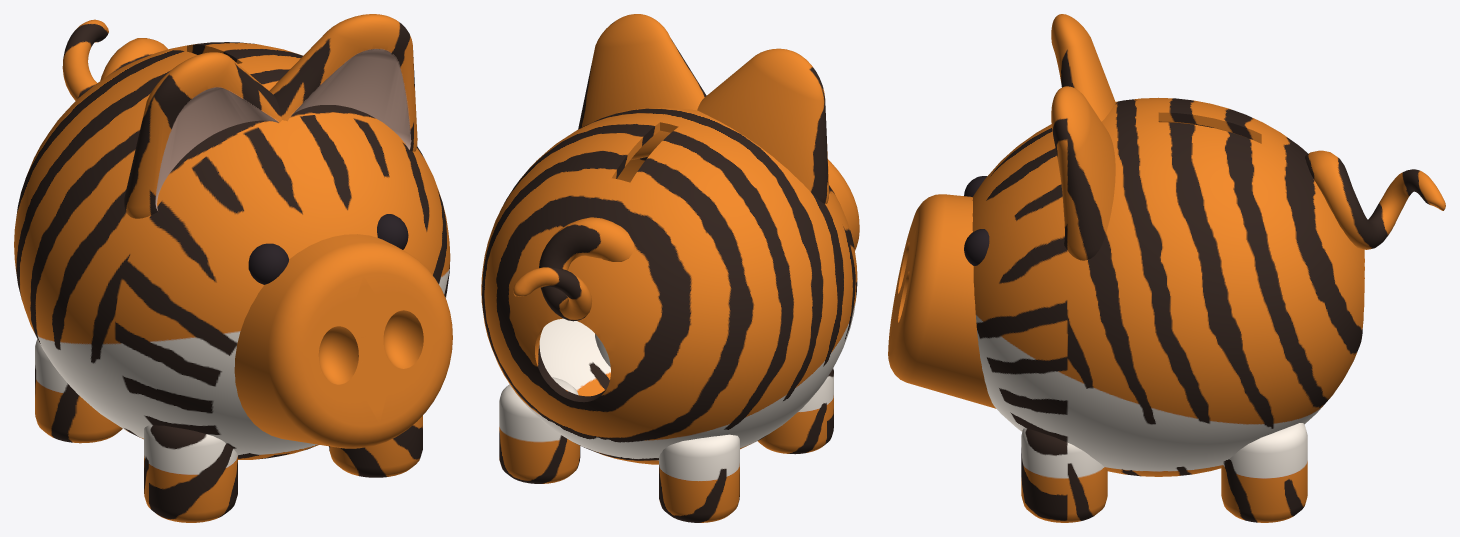
The model's file is tiger-complete.fbx.
The picture shows the model from 3 angles, left to right: view 1: azimuth 30°, elevation 25°; view 2: azimuth 150°, elevation 25°; view 3: azimuth 270°, elevation 25°; orthographic projection. The views are drawn at different scales.
Visible parts, largest first — view 1: Body, Snout, Ears, Legs, Tail, Eyes; view 2: Body, Ears, Legs, Tail, Snout; view 3: Body, Snout, Legs, Ears, Tail, Eyes.
Part boxes in pixels (x1,y1,x2,y2): Body: (14, 42, 450, 459); Snout: (234, 234, 452, 448); Ears: (124, 14, 417, 218); Legs: (35, 339, 422, 522); Tail: (62, 19, 167, 100); Eyes: (248, 214, 408, 284); Body: (481, 107, 857, 464); Ears: (578, 14, 829, 203); Legs: (499, 334, 833, 522); Tail: (513, 217, 634, 321); Snout: (828, 159, 859, 250); Body: (972, 97, 1364, 476); Snout: (888, 194, 996, 408); Legs: (1021, 423, 1307, 522); Ears: (1051, 14, 1115, 260); Tail: (1305, 150, 1445, 249); Eyes: (964, 176, 989, 265).
Bounding box in the file's own units: 1200 × 1397 × 1708.
3 materials, 2 textured.
